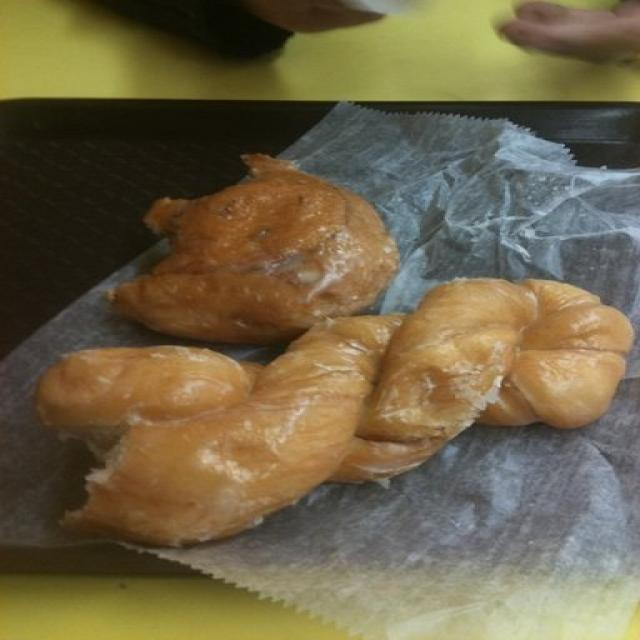Donuts: (50, 147, 640, 565)
